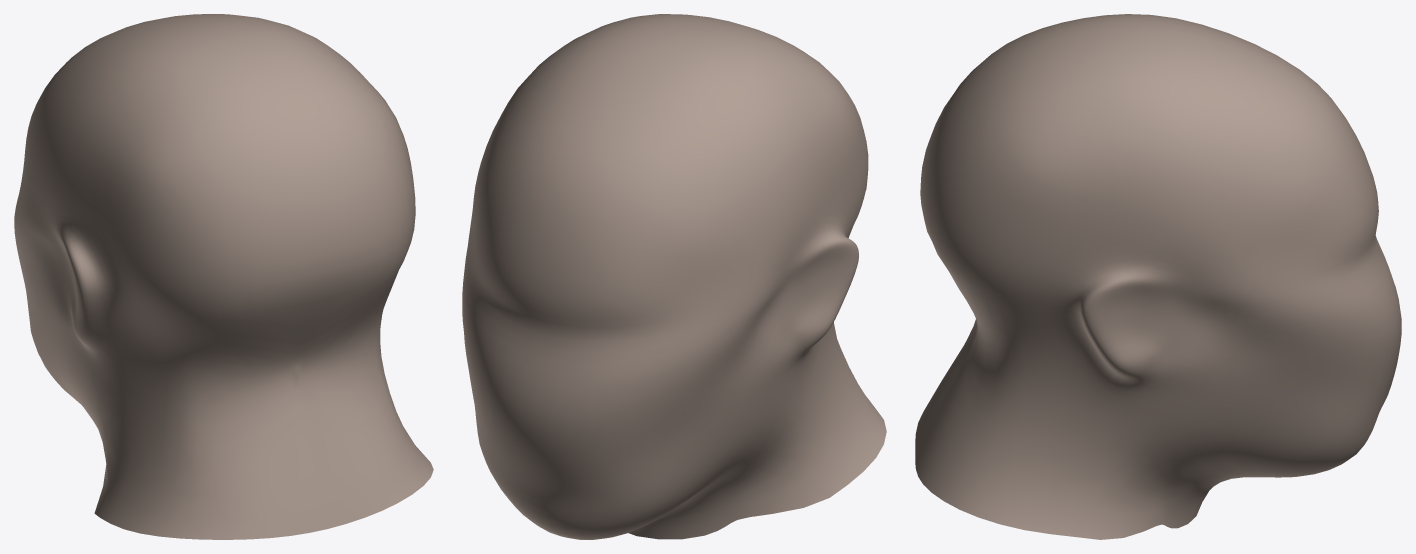
Rendered from orc_head.fbx.
3 views of the same model, side by side, from view 1: azimuth 30°, elevation 25°; view 2: azimuth 150°, elevation 25°; view 3: azimuth 270°, elevation 25° (orthographic).
Visible parts, largest first — view 1: Mesh1; view 2: Mesh1; view 3: Mesh1.
Part boxes in pixels (<box>): Mesh1: <box>14,14,433,539</box>; Mesh1: <box>462,14,886,539</box>; Mesh1: <box>915,14,1401,539</box>.
Size of the model in its own units: 0.656 by 0.8884 by 0.8352.
